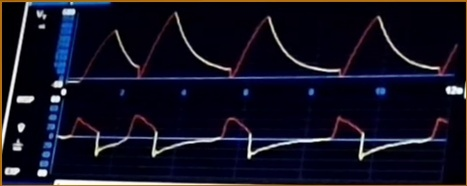Flow: (63, 104, 448, 169)
Leakage Volume: (75, 12, 458, 83)
